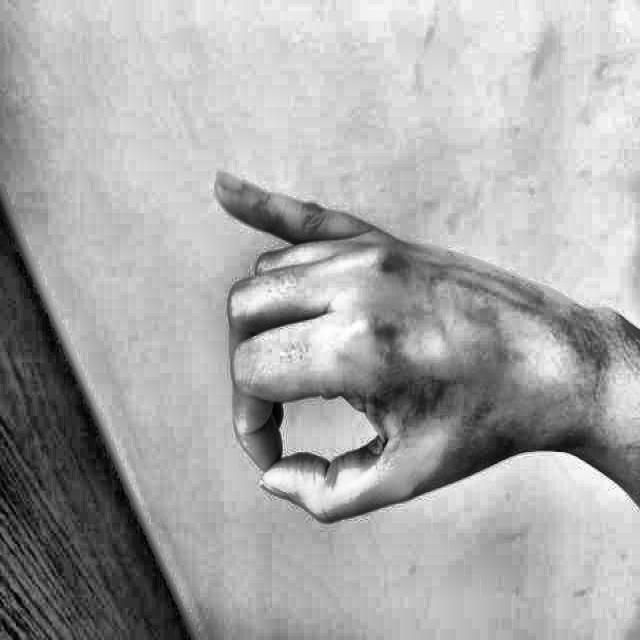Ou: (189, 132, 574, 540)
